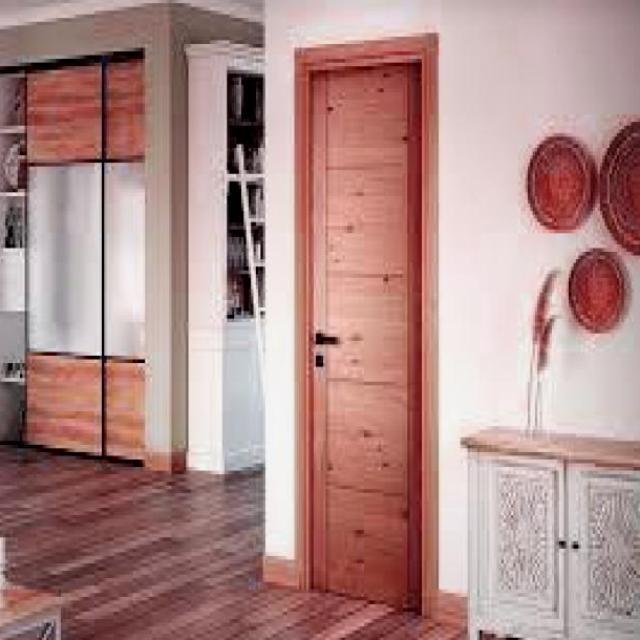door: (299, 49, 424, 613)
